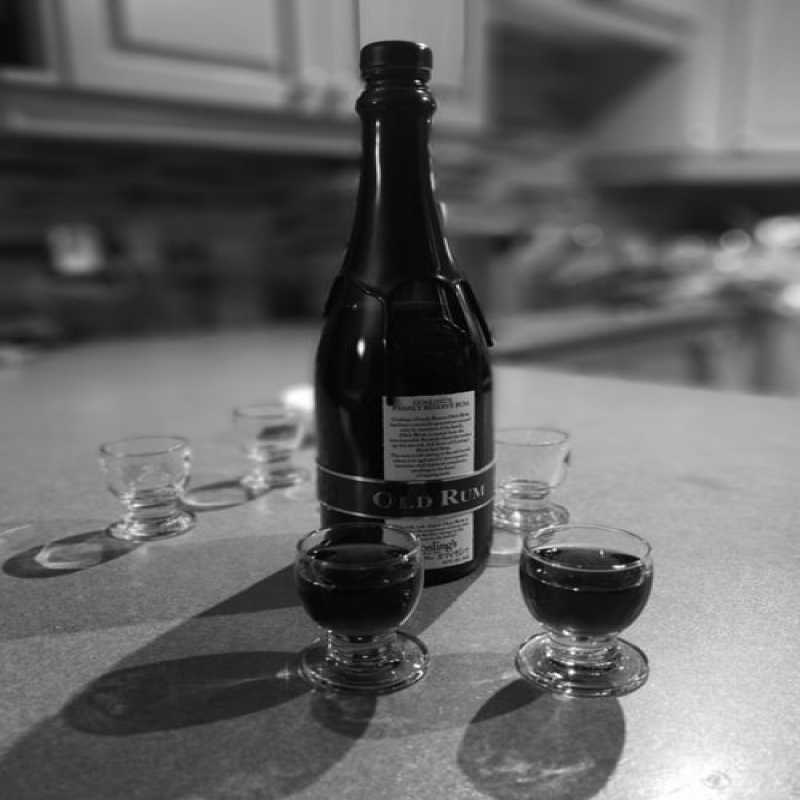wine: (303, 42, 494, 552)
